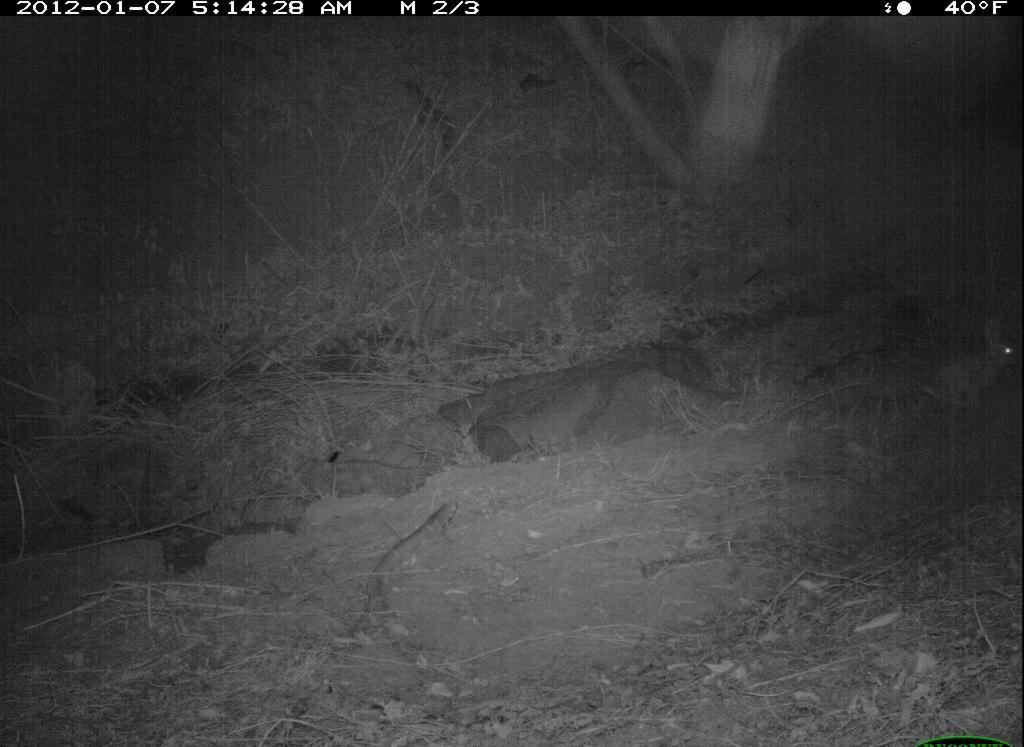rabbit: (920, 310, 1021, 419)
